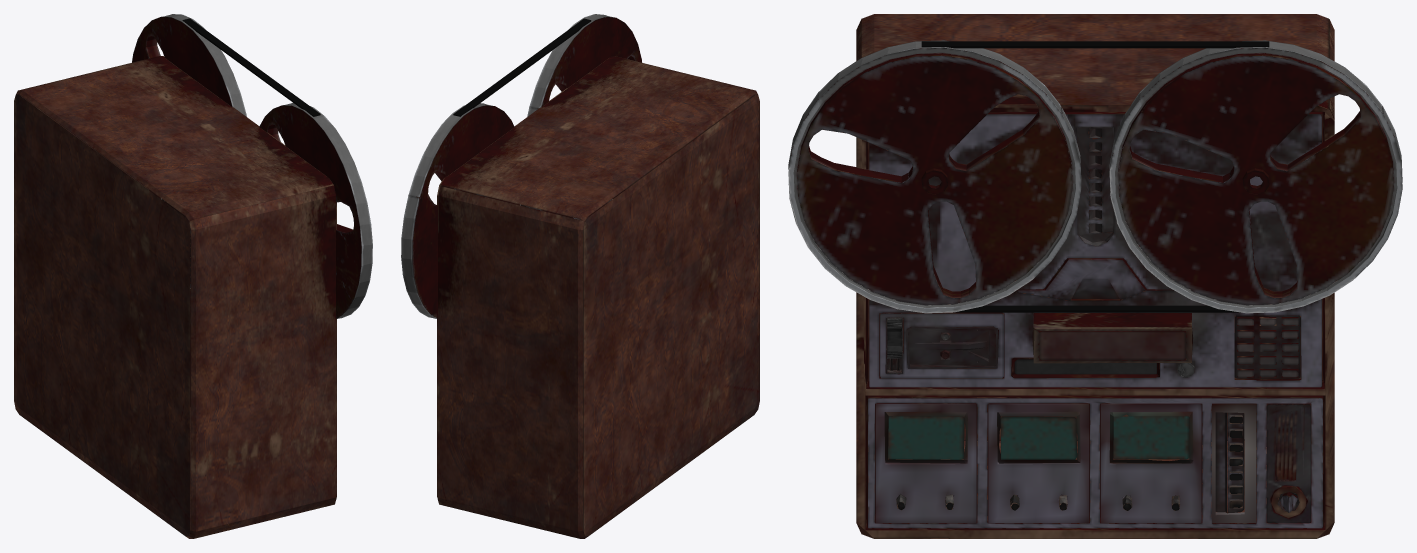
The model's file is DecoderUnity.fbx.
The picture shows the model from 3 angles, left to right: view 1: azimuth 30°, elevation 25°; view 2: azimuth 150°, elevation 25°; view 3: azimuth 270°, elevation 25°; orthographic projection. The views are drawn at different scales.
Visible parts, largest first — view 1: DecoderAsset, DecoderHead1, DecoderHead2, DecoderTape; view 2: DecoderAsset, DecoderHead2, DecoderHead1, DecoderTape; view 3: DecoderAsset, DecoderHead1, DecoderHead2, DecoderTape.
Boxes of the visible parts, x1,y1,x2,y2 form: DecoderAsset: (14, 56, 336, 538); DecoderHead1: (259, 103, 372, 318); DecoderHead2: (132, 14, 246, 222); DecoderTape: (182, 18, 320, 116); DecoderAsset: (437, 56, 759, 538); DecoderHead2: (401, 103, 519, 318); DecoderHead1: (527, 14, 641, 221); DecoderTape: (453, 18, 591, 116); DecoderAsset: (856, 14, 1334, 538); DecoderHead1: (788, 40, 1081, 313); DecoderHead2: (1109, 40, 1402, 313); DecoderTape: (921, 41, 1269, 312).
Size of the model in its own units: 72.86 by 154 by 172.
